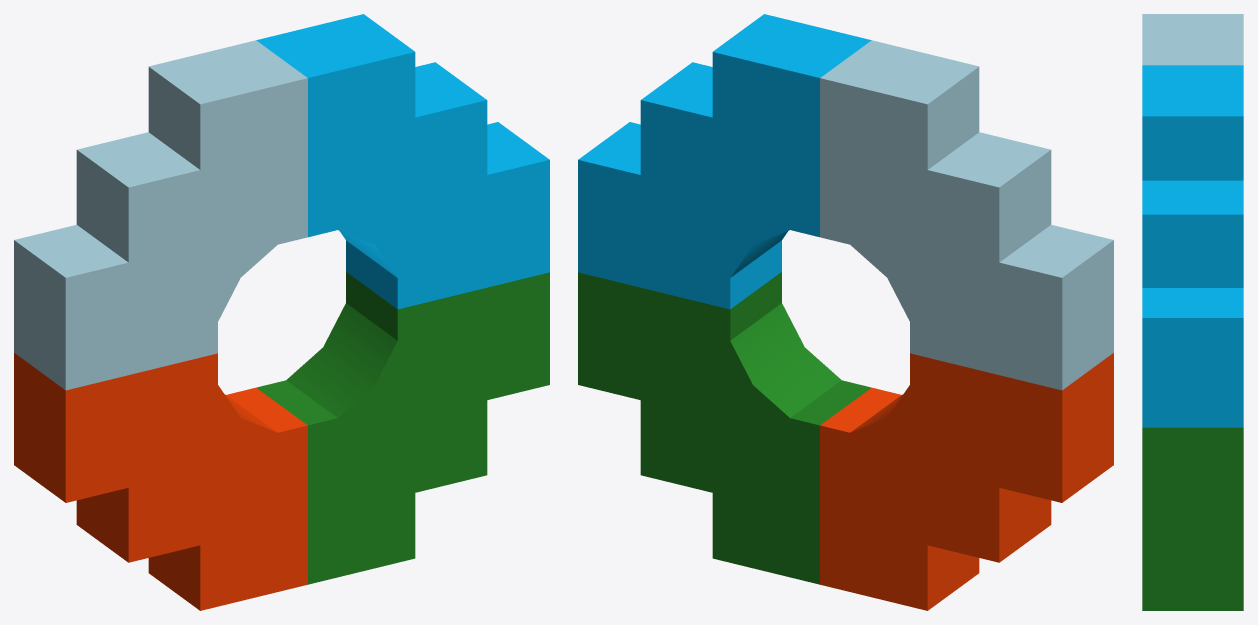
The model's file is tawa.fbx.
3 views of the same model, side by side, from view 1: azimuth 30°, elevation 25°; view 2: azimuth 150°, elevation 25°; view 3: azimuth 270°, elevation 25° (orthographic). The views are drawn at different scales.
Visible parts, largest first — view 1: Tawa_Aire, Tawa_Fuego, Tawa_Agua, Tawa_Tierra; view 2: Tawa_Aire, Tawa_Fuego, Tawa_Agua, Tawa_Tierra; view 3: Tawa_Agua, Tawa_Tierra, Tawa_Aire.
Part boxes in pixels (bbox=[...]): Tawa_Aire: bbox=[14, 40, 307, 390]; Tawa_Fuego: bbox=[14, 353, 307, 610]; Tawa_Agua: bbox=[256, 14, 549, 309]; Tawa_Tierra: bbox=[256, 272, 549, 584]; Tawa_Aire: bbox=[820, 40, 1113, 390]; Tawa_Fuego: bbox=[820, 353, 1113, 610]; Tawa_Agua: bbox=[578, 14, 871, 309]; Tawa_Tierra: bbox=[578, 272, 871, 584]; Tawa_Agua: bbox=[1142, 65, 1243, 427]; Tawa_Tierra: bbox=[1142, 427, 1243, 610]; Tawa_Aire: bbox=[1142, 14, 1243, 65].
Size of the model in its own units: 270 by 270 by 50.
